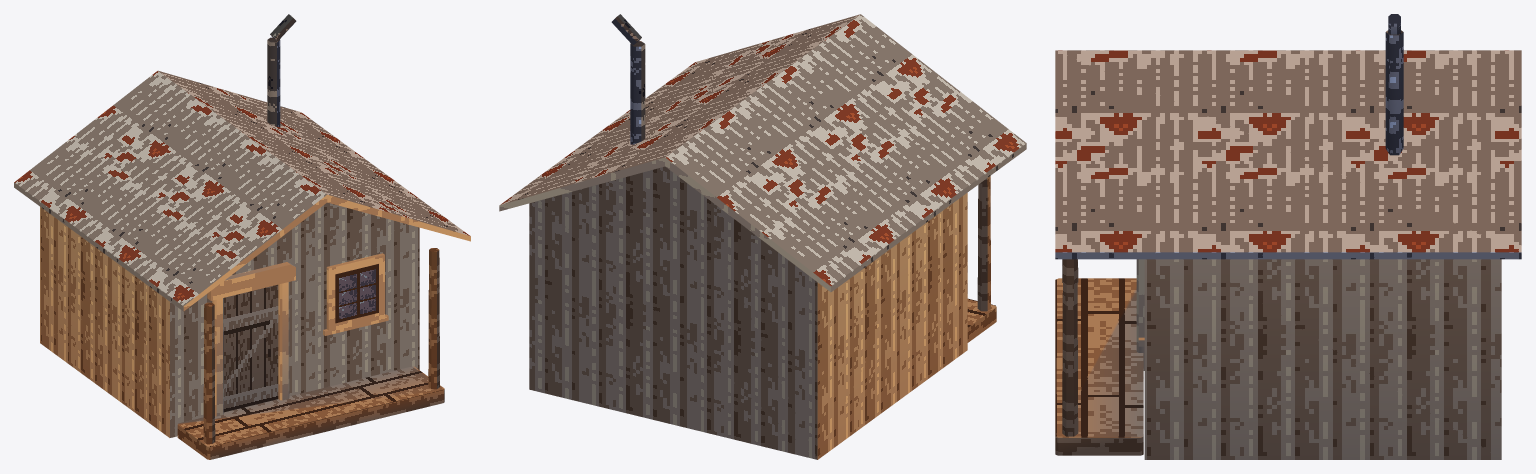
Rendered from wtown.shack.glb.
3 views of the same model, side by side, from view 1: azimuth 30°, elevation 25°; view 2: azimuth 150°, elevation 25°; view 3: azimuth 270°, elevation 25° (orthographic). The views are drawn at different scales.
Visible parts, largest first — view 1: kit_roof, kit_body, kit_porch_deck, kit_card_panes, kit_trim, kit_porch, kit_windows, kit_pipe; view 2: kit_body, kit_roof, kit_porch, kit_pipe, kit_porch_deck; view 3: kit_roof, kit_body, kit_porch_deck, kit_porch, kit_pipe, kit_windows.
Part boxes in pixels (<box>): kit_roof: <box>14,70,470,311</box>; kit_body: <box>40,202,419,437</box>; kit_porch_deck: <box>177,366,444,459</box>; kit_card_panes: <box>223,264,378,412</box>; kit_trim: <box>207,262,295,416</box>; kit_porch: <box>203,248,439,443</box>; kit_windows: <box>323,253,388,335</box>; kit_pipe: <box>267,37,280,127</box>; kit_body: <box>529,166,967,459</box>; kit_roof: <box>499,14,1026,291</box>; kit_porch: <box>977,176,990,311</box>; kit_pipe: <box>630,41,645,144</box>; kit_porch_deck: <box>967,298,996,342</box>; kit_roof: <box>1055,50,1521,259</box>; kit_body: <box>1144,259,1501,459</box>; kit_porch_deck: <box>1055,278,1143,455</box>; kit_porch: <box>1062,259,1078,436</box>; kit_pipe: <box>1385,30,1403,155</box>; kit_windows: <box>1138,259,1144,346</box>.
Bounding box in the file's own units: 4.6 × 4.67 × 4.7.
Materials: 9 (9 with a texture image).
